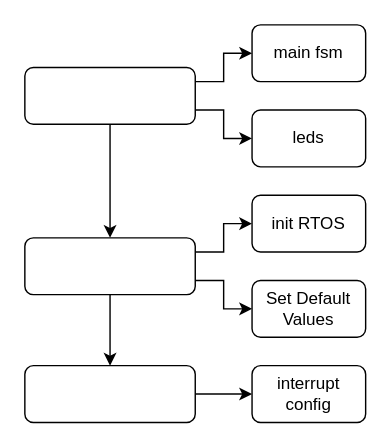
The diagram is 391 pixels wide and 447 high, and some of its shapes have lost their labels. The box of each missing label's shape, as (x1, y1, x2, y2) in pixels:
main: (23, 66, 195, 124)
peripherals_init(): (23, 364, 195, 422)
sequencer_init(): (23, 236, 195, 295)
